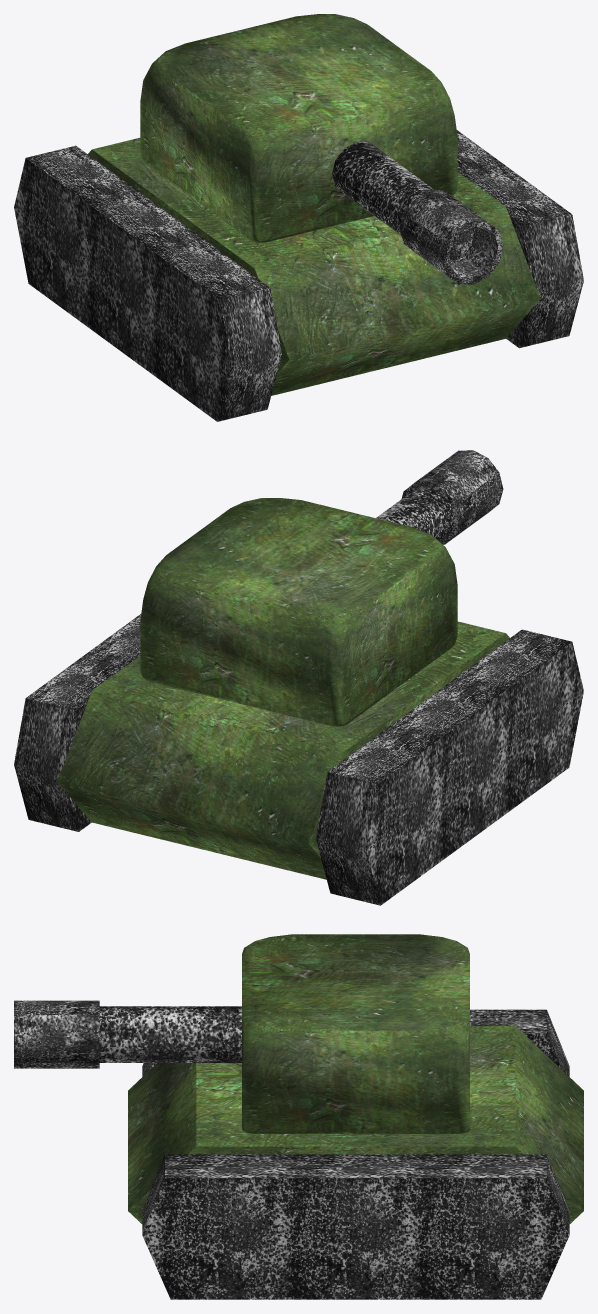
The model's file is tankModelV1_inTex.fbx.
The picture shows the model from 3 angles, top to bottom: view 1: azimuth 30°, elevation 25°; view 2: azimuth 150°, elevation 25°; view 3: azimuth 270°, elevation 25°; orthographic projection.
Parts seen in each view (by area): view 1: main, turret; view 2: main, turret; view 3: main, turret.
Boxes of the visible parts, bbox=[...] form: main: bbox=[14, 130, 583, 421]; turret: bbox=[140, 14, 503, 284]; main: bbox=[14, 614, 583, 905]; turret: bbox=[140, 450, 503, 726]; main: bbox=[128, 1009, 583, 1299]; turret: bbox=[14, 934, 469, 1133].
Bounding box in the file's own units: 70 × 45.11 × 100.
2 materials, 2 textured.
